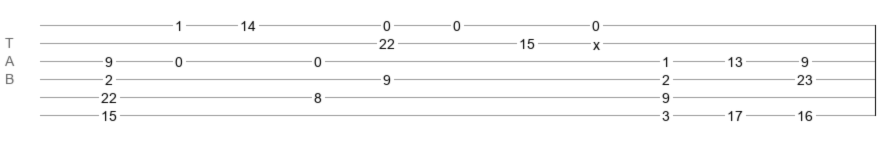0: (175, 54, 183, 64), (314, 54, 322, 64), (383, 18, 391, 28), (453, 18, 461, 28), (592, 18, 600, 28)
1: (175, 18, 183, 28), (662, 54, 670, 64)
13: (727, 54, 743, 64)
14: (240, 18, 256, 28)
15: (101, 108, 117, 118), (519, 36, 535, 46)
16: (797, 108, 813, 118)
17: (727, 108, 743, 118)
2: (105, 72, 113, 82), (662, 72, 670, 82)
22: (101, 90, 117, 100), (379, 36, 395, 46)
23: (797, 72, 813, 82)
3: (662, 108, 670, 118)
8: (314, 90, 322, 100)
9: (105, 54, 113, 64), (383, 72, 391, 82), (662, 90, 670, 100), (801, 54, 809, 64)
x: (593, 37, 600, 45)
